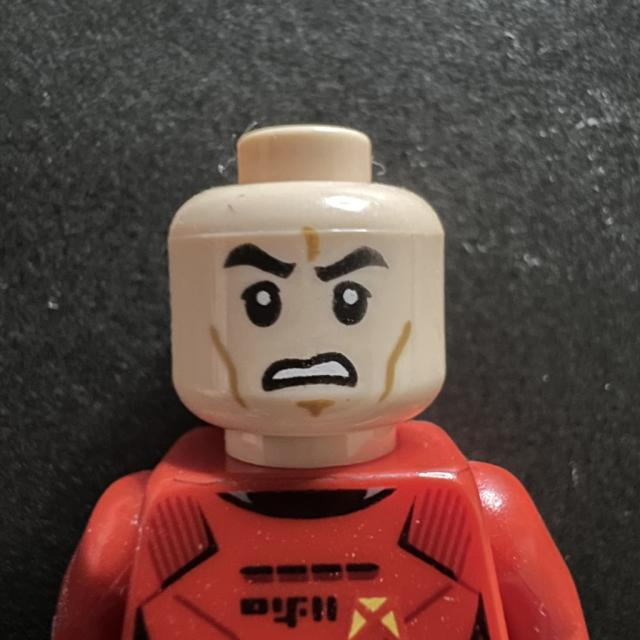lego: (163, 112, 454, 458)
